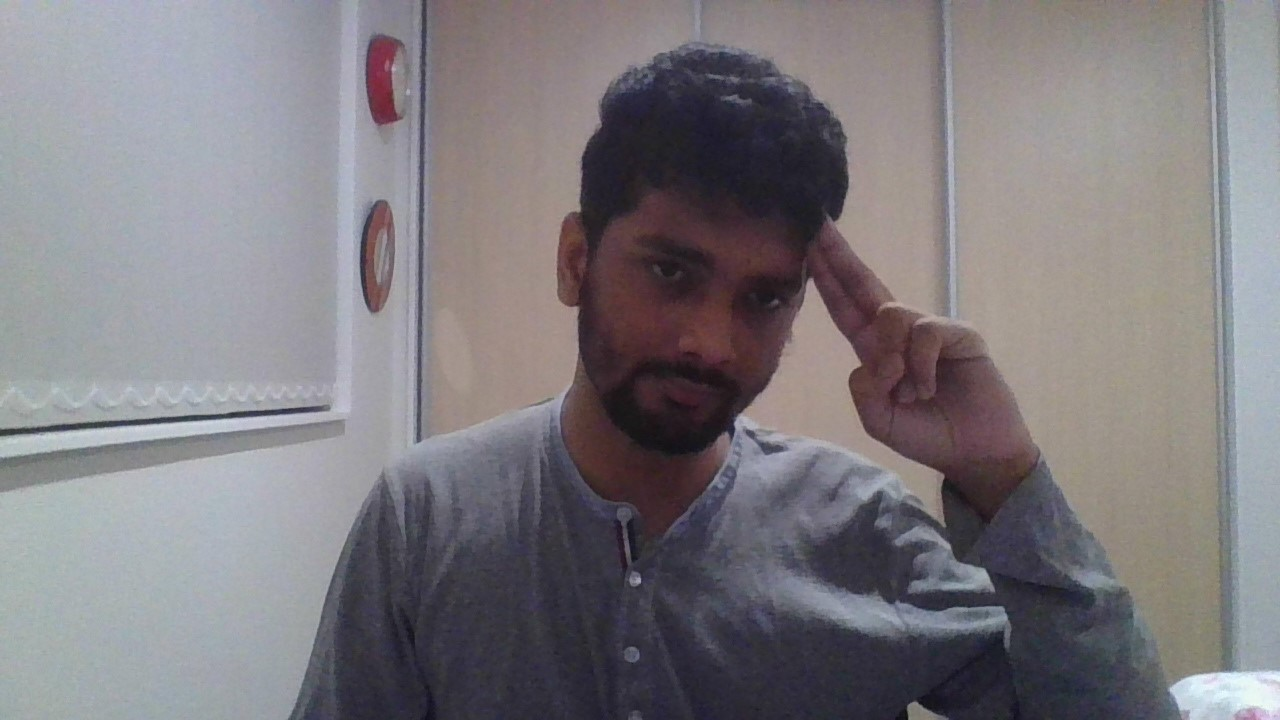peace: (804, 210, 1023, 467)
